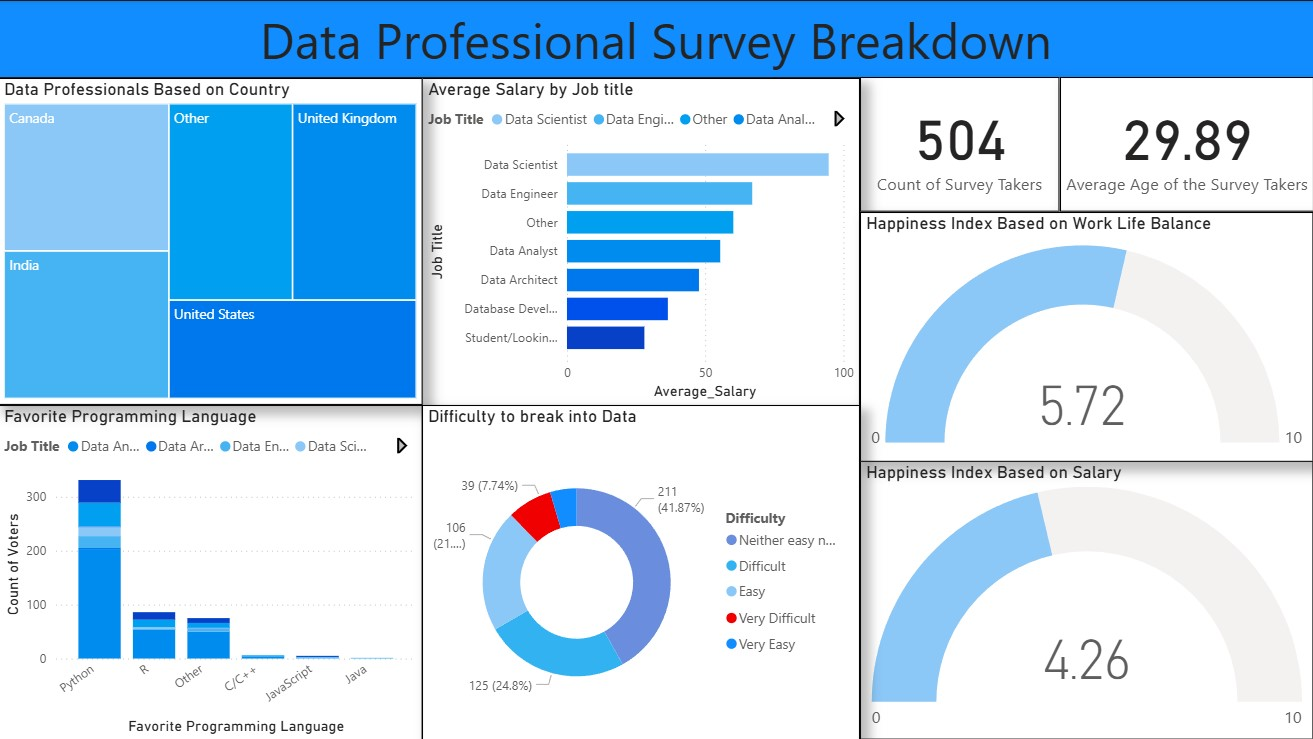

What the dashboard file says about the page in this screenshot:
{"tool":"powerbi","page":{"name":"Page 1","canvas":[1280,720],"ordinal":0},"visuals":[{"type":"textbox","box":[0,0,1280,75.6],"z":0},{"type":"card","fields":{"Values":["CountNonNull(Data Professional Survey.Unique ID)"]},"box":[838.7,74.9,193.9,130.9],"z":1000},{"type":"card","fields":{"Values":["Avg(Data Professional Survey.Q10 - Current Age)"]},"box":[1032.6,74.9,247.4,130.9],"z":2000},{"type":"barChart","title":"Average Salary by Job title","fields":{"Category":["Data Professional Survey.Q1 - Which Title Best Fits your Current Role?.1"],"Y":["Avg(Data Professional Survey.Average_Salary)"],"Series":["Data Professional Survey.Q1 - Which Title Best Fits your Current Role?.1"]},"box":[412.8,76.1,425.9,318.8],"z":3000},{"type":"columnChart","title":"Favorite Programming Language","fields":{"Category":["Data Professional Survey.Q5 - Favorite Programming Language.1"],"Y":["CountNonNull(Data Professional Survey.Unique ID)"],"Series":["Data Professional Survey.Which Title Best Fits your Current Role?"]},"box":[0,393.8,412.8,325.9],"z":4000},{"type":"treemap","title":"Data Professionals Based on Country","fields":{"Group":["Data Professional Survey.Q11 - Which Country do you live in?"],"Values":["Count(Data Professional Survey.Q11 - Which Country do you live in?)"]},"box":[0,76.1,412.8,317.6],"z":5000},{"type":"gauge","title":"Happiness Index Based on Salary","fields":{"Y":["Avg(Data Professional Survey.Q6 - How Happy are you in your Current Position with the following? (Salary))"],"MinValue":["Min(Data Professional Survey.Q6 - How Happy are you in your Current Position with the following? (Salary))"],"MaxValue":["Max(Data Professional Survey.Q6 - How Happy are you in your Current Position with the following? (Salary))"]},"box":[838.7,448.5,441.3,271.2],"z":6000},{"type":"gauge","title":"Happiness Index Based on Work Life Balance","fields":{"Y":["Avg(Data Professional Survey.Q6 - How Happy are you in your Current Position with the following? (Work/Life Balance))"],"MinValue":["Min(Data Professional Survey.Q6 - How Happy are you in your Current Position with the following? (Work/Life Balance))1"],"MaxValue":["Max(Data Professional Survey.Q6 - How Happy are you in your Current Position with the following? (Work/Life Balance))2"]},"box":[838.7,205.8,441.3,242.7],"z":7000},{"type":"donutChart","title":"Difficulty to break into Data","fields":{"Category":["Data Professional Survey.Q7 - How difficult was it for you to break into Data?"],"Y":["CountNonNull(Data Professional Survey.Q7 - How difficult was it for you to break into Data?)"]},"box":[412.8,393.8,425.9,325.9],"z":8000}]}

Visuals, with their boxes in screenshot pixels (x1, y1, x2, y2), scaled from the page's 1280x720 canvas onto the 1313x739 screenshot:
textbox: (0, 0, 1312, 78)
card - CountNonNull(Data Professional Survey.Unique ID): (860, 77, 1059, 211)
card - Avg(Data Professional Survey.Q10 - Current Age): (1059, 77, 1312, 211)
"Average Salary by Job title" barChart: (423, 78, 860, 405)
"Favorite Programming Language" columnChart: (0, 404, 423, 738)
"Data Professionals Based on Country" treemap: (0, 78, 423, 404)
"Happiness Index Based on Salary" gauge: (860, 460, 1312, 738)
"Happiness Index Based on Work Life Balance" gauge: (860, 211, 1312, 460)
"Difficulty to break into Data" donutChart: (423, 404, 860, 738)
